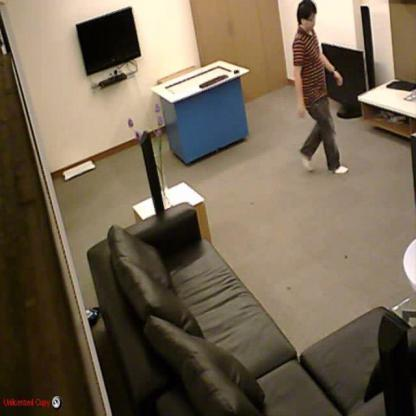Person: (292, 2, 348, 173)
